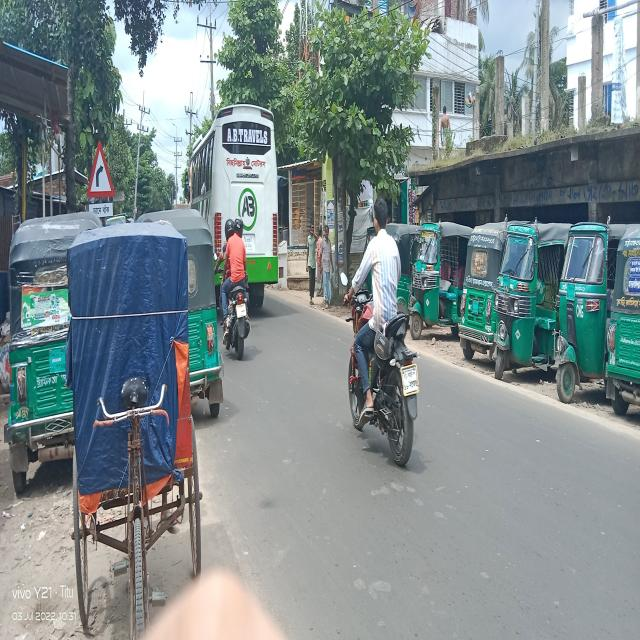bus: (206, 97, 283, 286)
